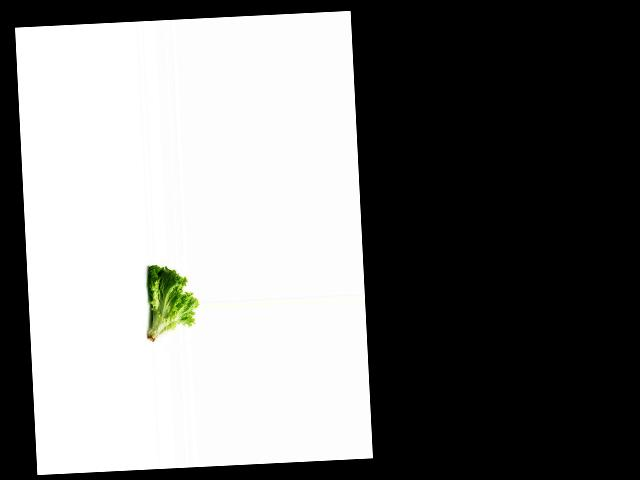lettuce: (142, 263, 201, 343)
